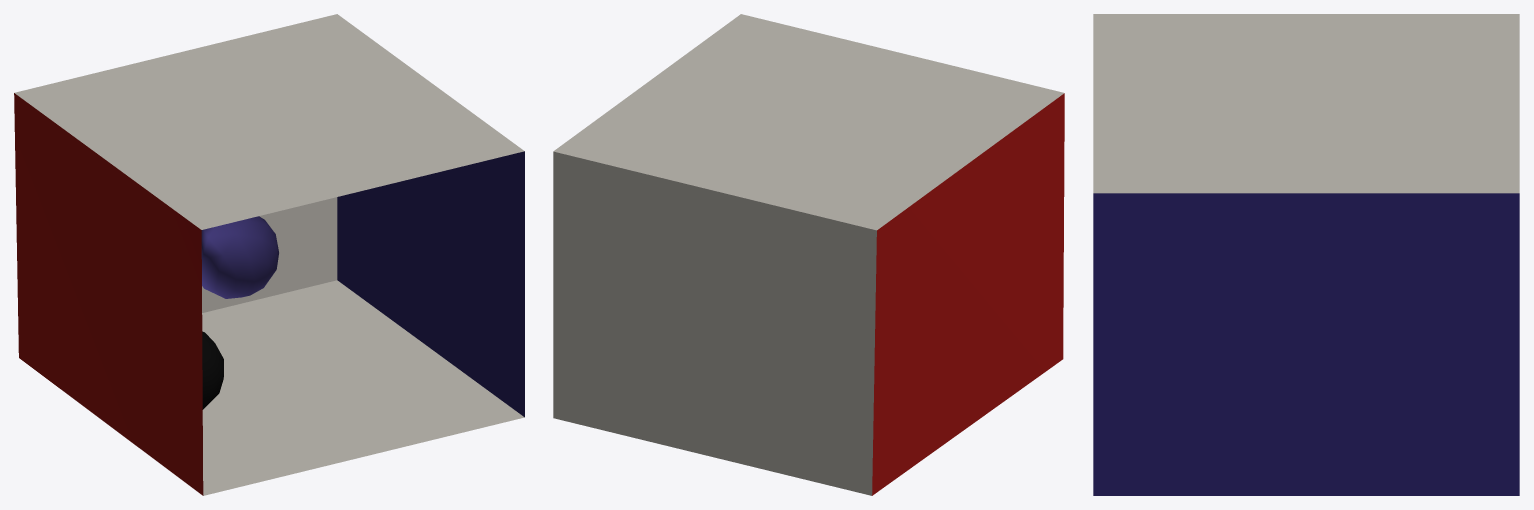
File: CornellBox-Sphere-1033.obj
The picture shows the model from 3 angles, left to right: view 1: azimuth 30°, elevation 25°; view 2: azimuth 150°, elevation 25°; view 3: azimuth 270°, elevation 25°; orthographic projection. The views are drawn at different scales.
Parts seen in each view (by area): view 1: ceiling, leftWall, floor, rightWall, backWall, leftSphere, rightSphere; view 2: backWall, ceiling, leftWall; view 3: rightWall, ceiling.
Part boxes in pixels (box(x1,y1,x2,y2)): ceiling: box(14, 14, 524, 229); leftWall: box(14, 93, 203, 495); floor: box(202, 280, 524, 495); rightWall: box(337, 151, 524, 417); backWall: box(202, 197, 337, 312); leftSphere: box(201, 216, 278, 298); rightSphere: box(202, 331, 223, 409); backWall: box(553, 151, 876, 495); ceiling: box(553, 14, 1064, 230); leftWall: box(872, 93, 1064, 495); rightWall: box(1093, 193, 1519, 495); ceiling: box(1093, 14, 1519, 193).
Size of the model in its own units: 2.02 by 1.59 by 2.03.
